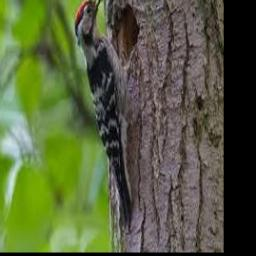Woodpecker: (75, 0, 139, 231)
